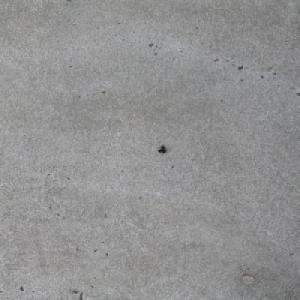BoltWasher: (157, 145, 167, 153)
